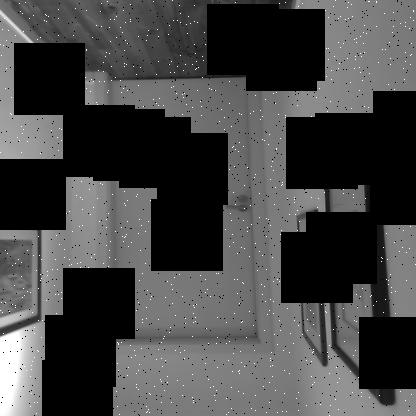Porte: (90, 66, 277, 356)
